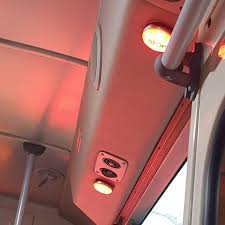bell: (91, 180, 114, 199)
